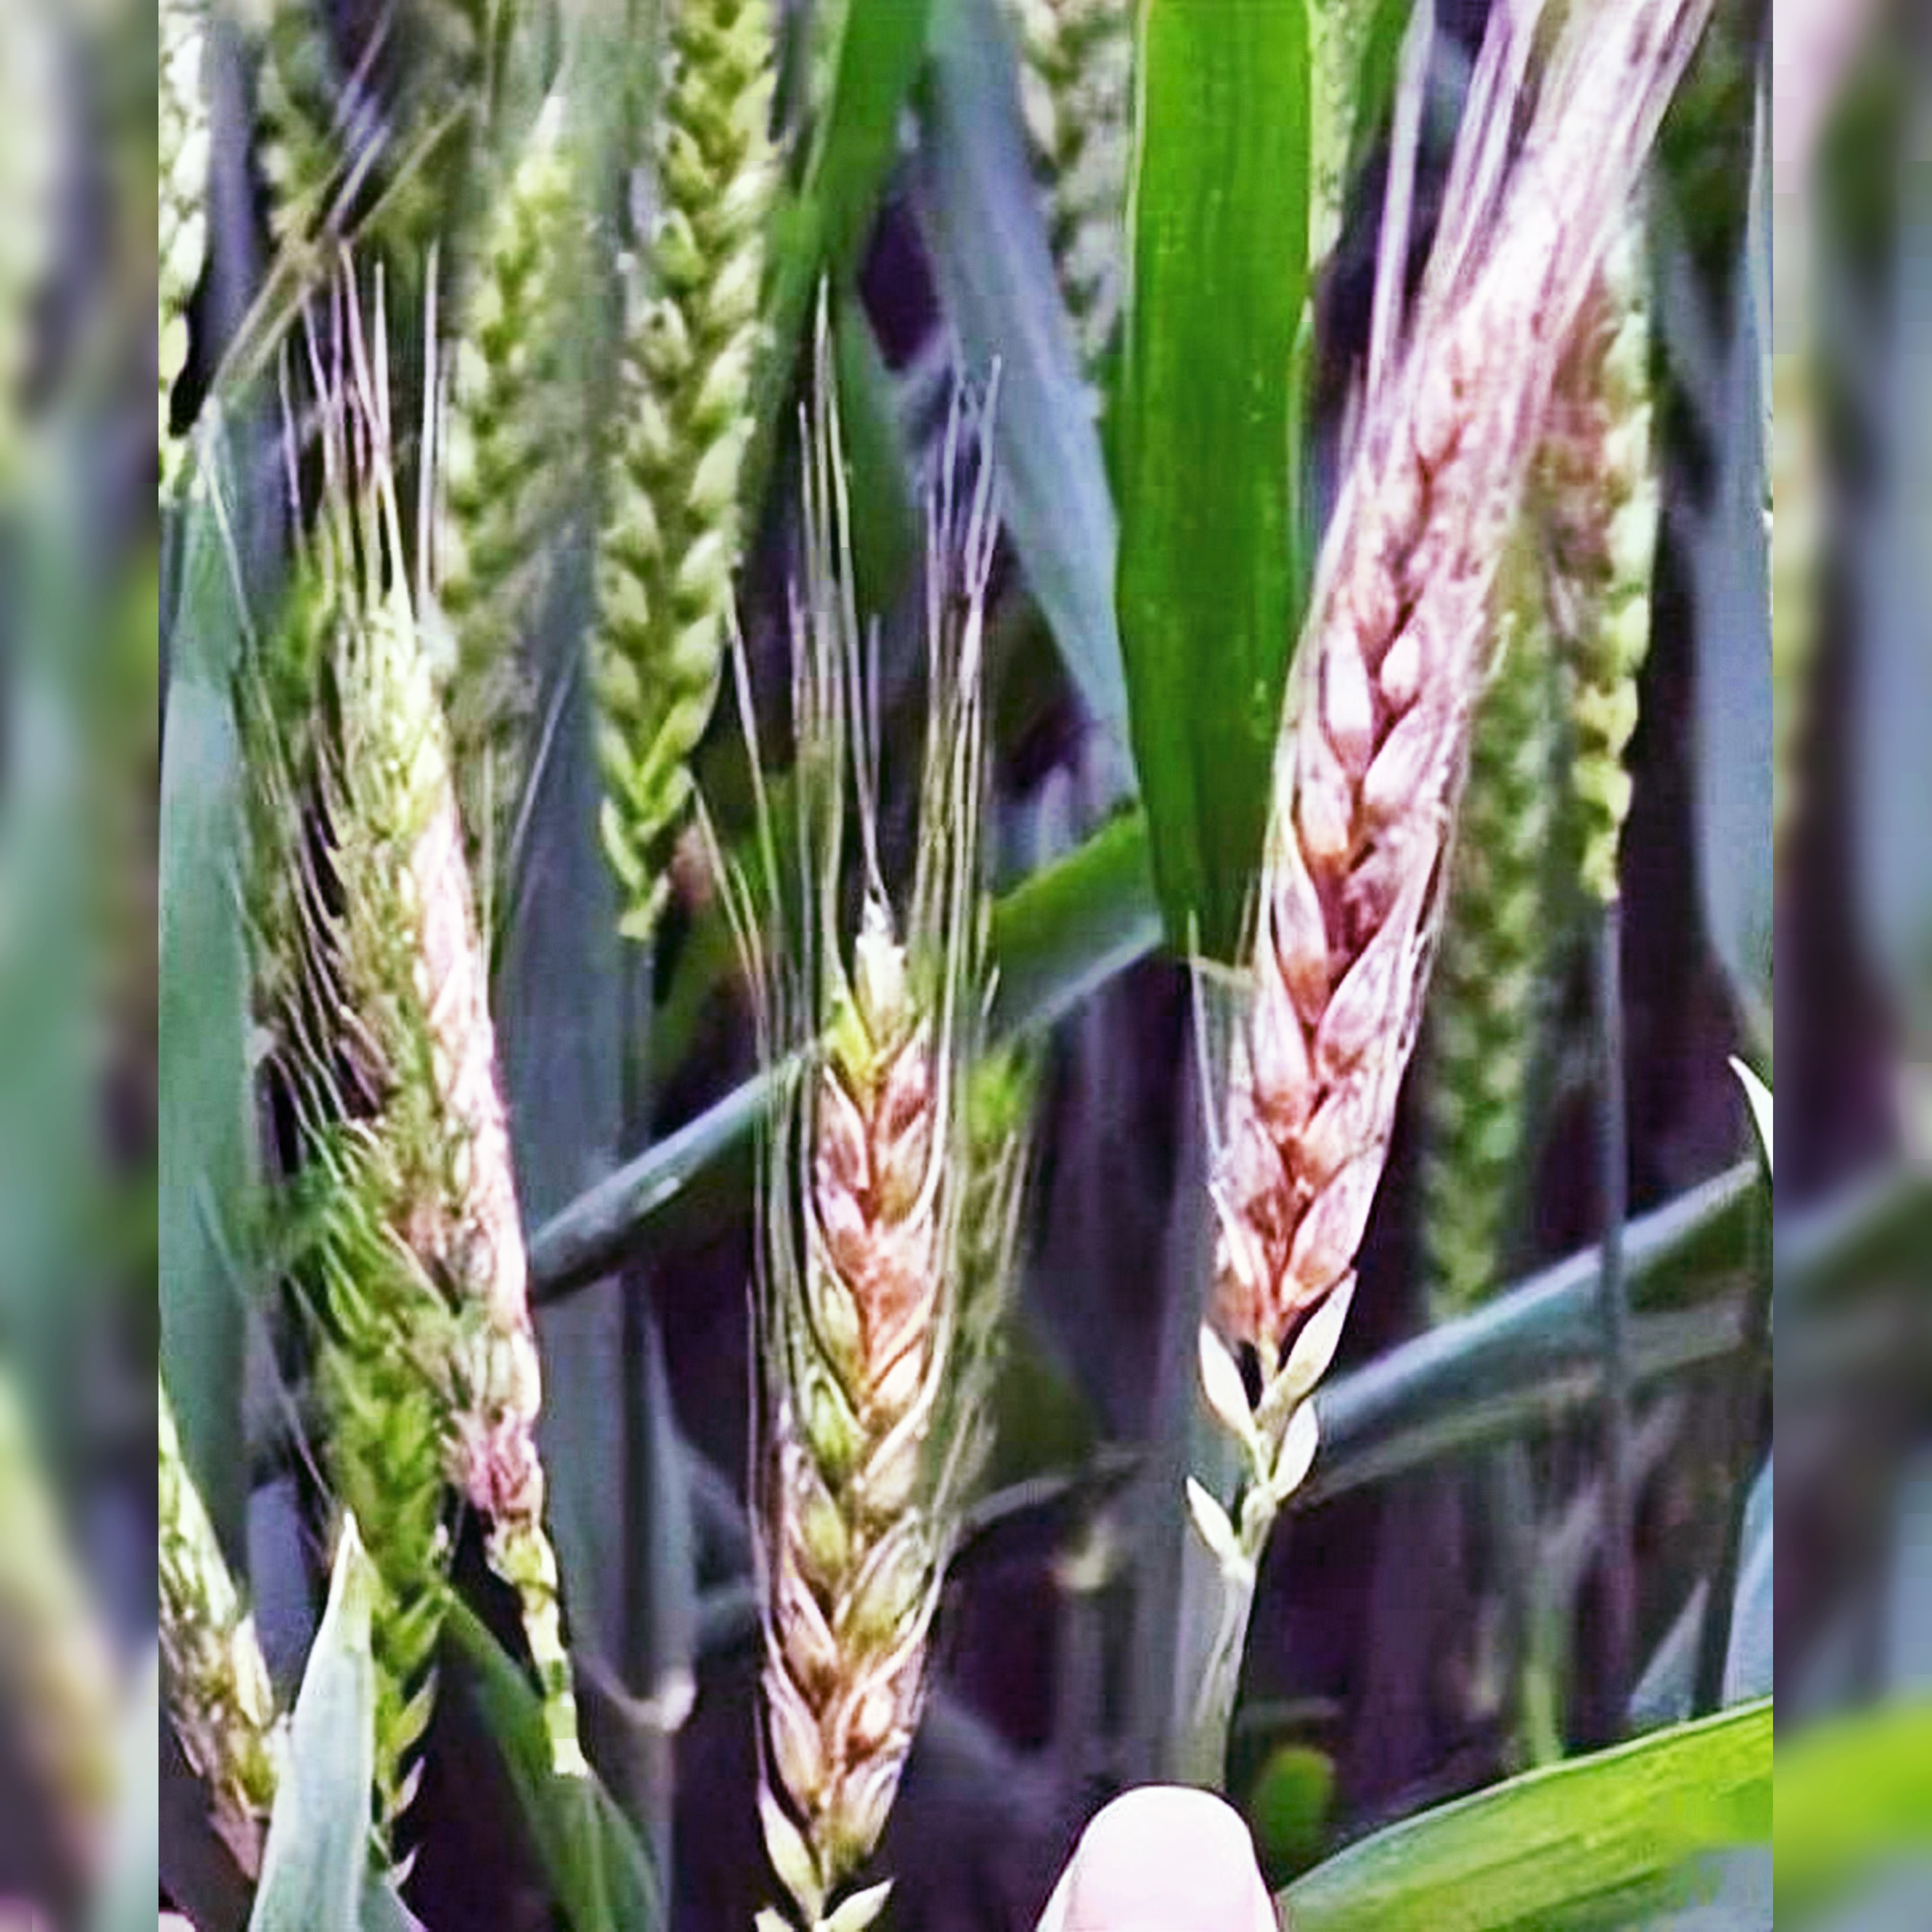Wheat scab: (1150, 280, 1580, 1451), (702, 936, 982, 1877)
